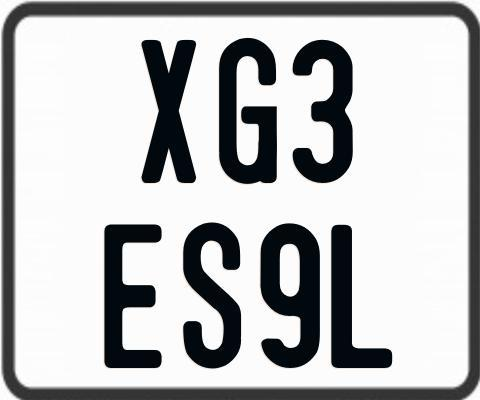3: (292, 37, 355, 185)
9: (260, 220, 326, 369)
E: (103, 224, 164, 373)
G: (216, 37, 278, 189)
L: (330, 225, 397, 368)
S: (181, 222, 243, 372)
X: (138, 38, 196, 186)
